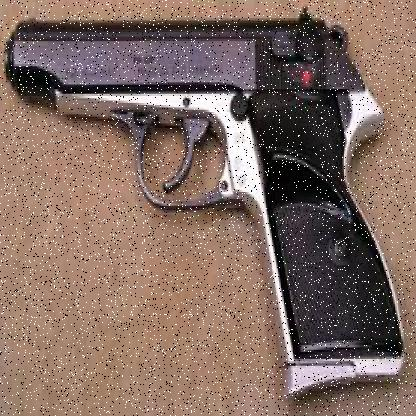pistol: (6, 9, 408, 393)
